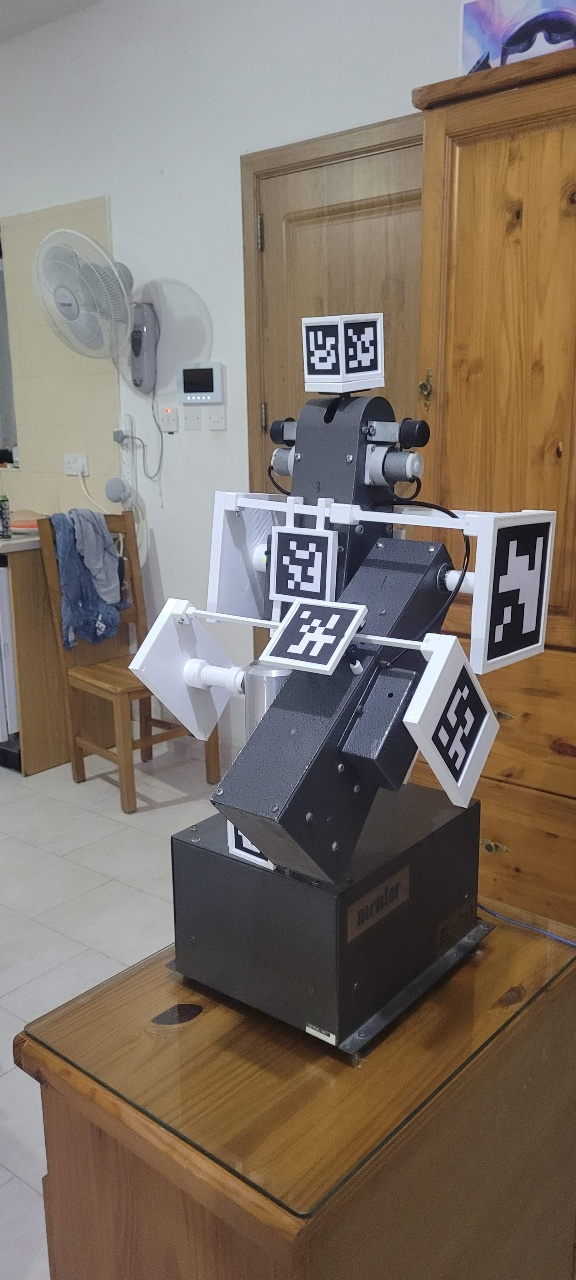Robot: (129, 312, 559, 888)
